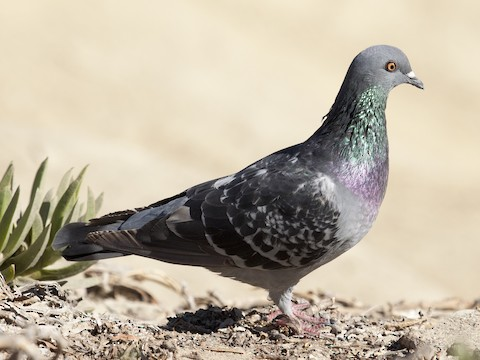pigeon: (49, 39, 434, 342)
